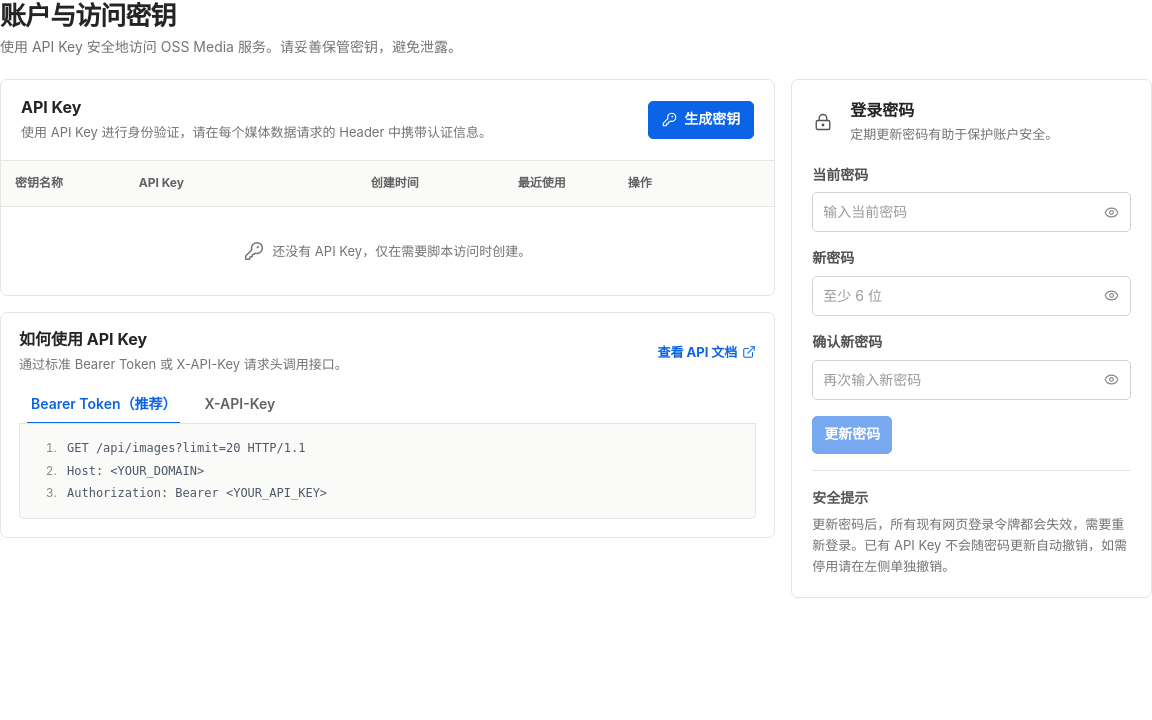
AccountView › creates a key with the trimmed dialog name and then reveals it once
Click the button with class "generate-key-button": (701, 120) [648,101,754,139]
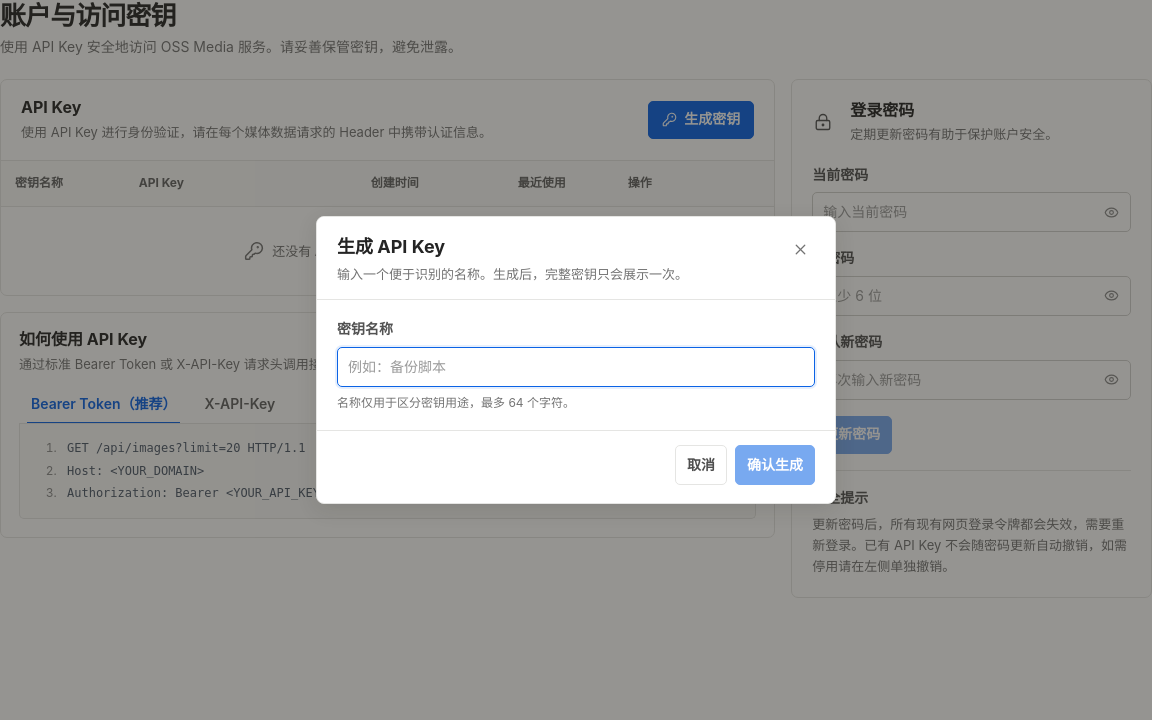
In the field named "API Key 名称": (576, 367) [337,347,815,387], type "  备份脚本  "
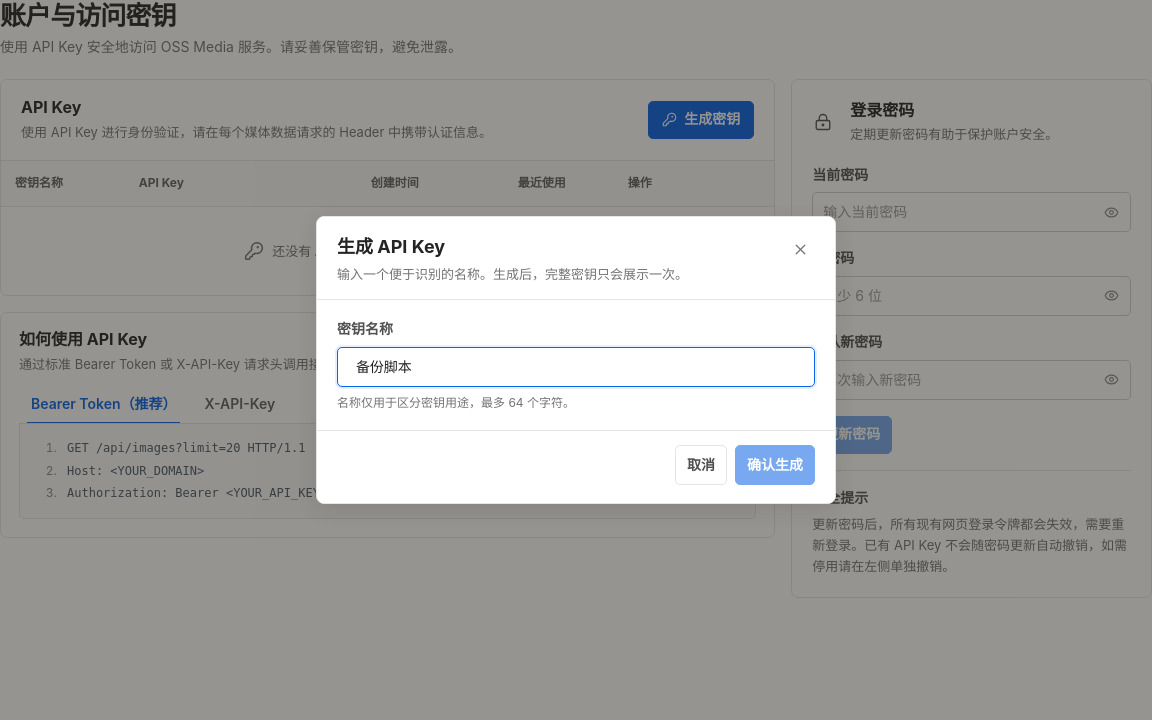
Submit the form, box [337,318,815,412]
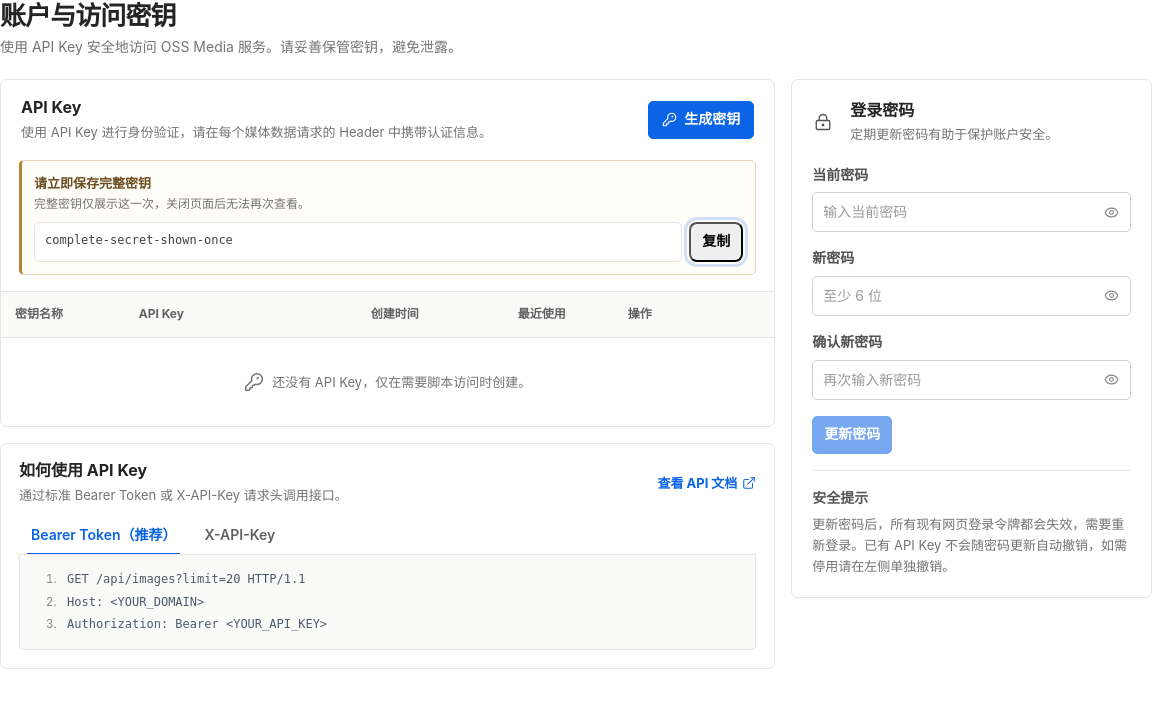
Expected: the dialog with class "base-modal-panel" is gone
Expected: the text with class "key-value" reads "complete-secret-shown-once", [45,233,233,247]
